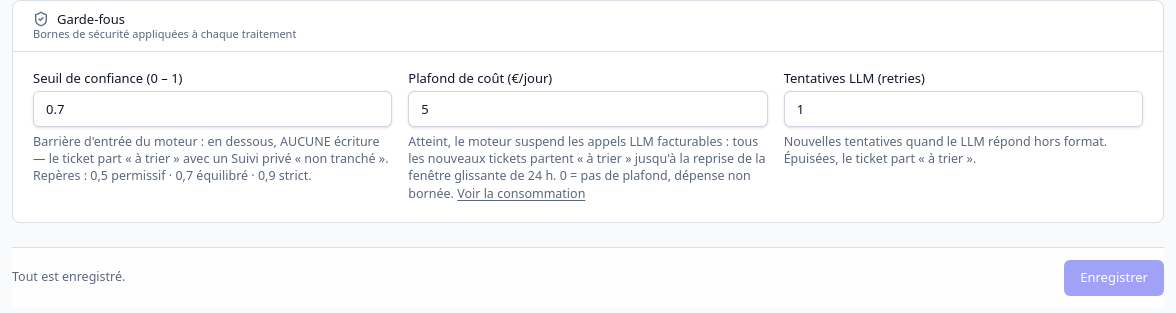
Garde-fous › annonce « Tout est enregistré. » puis « Modifications non enregistrées. »
Check: the text "Tout est enregistré." is shown, box [12,268,125,287]
Type "3" into the number field labelled "Tentatives LLM (retries)" at [963, 109], box [784,91,1143,127]
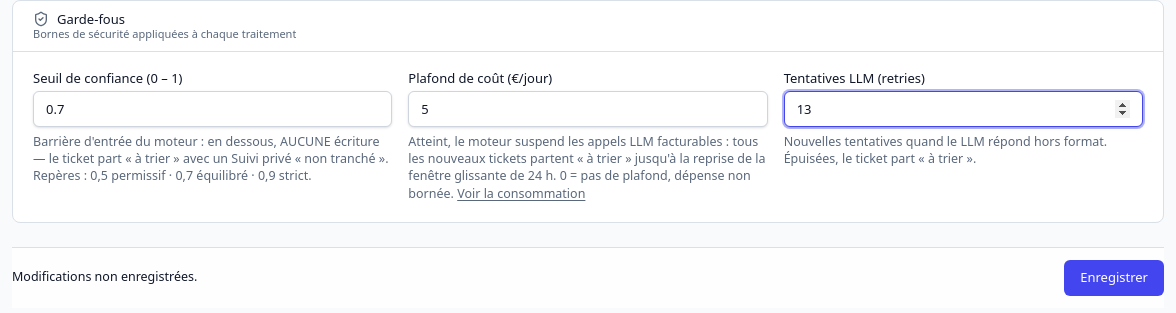
Check: the text "Modifications non enregistrées." is shown, box [12,268,197,287]
